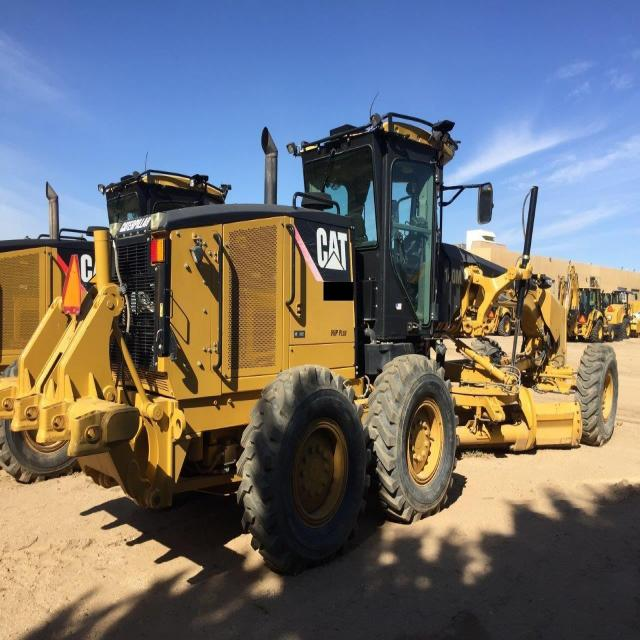Grader: (42, 80, 638, 556)
